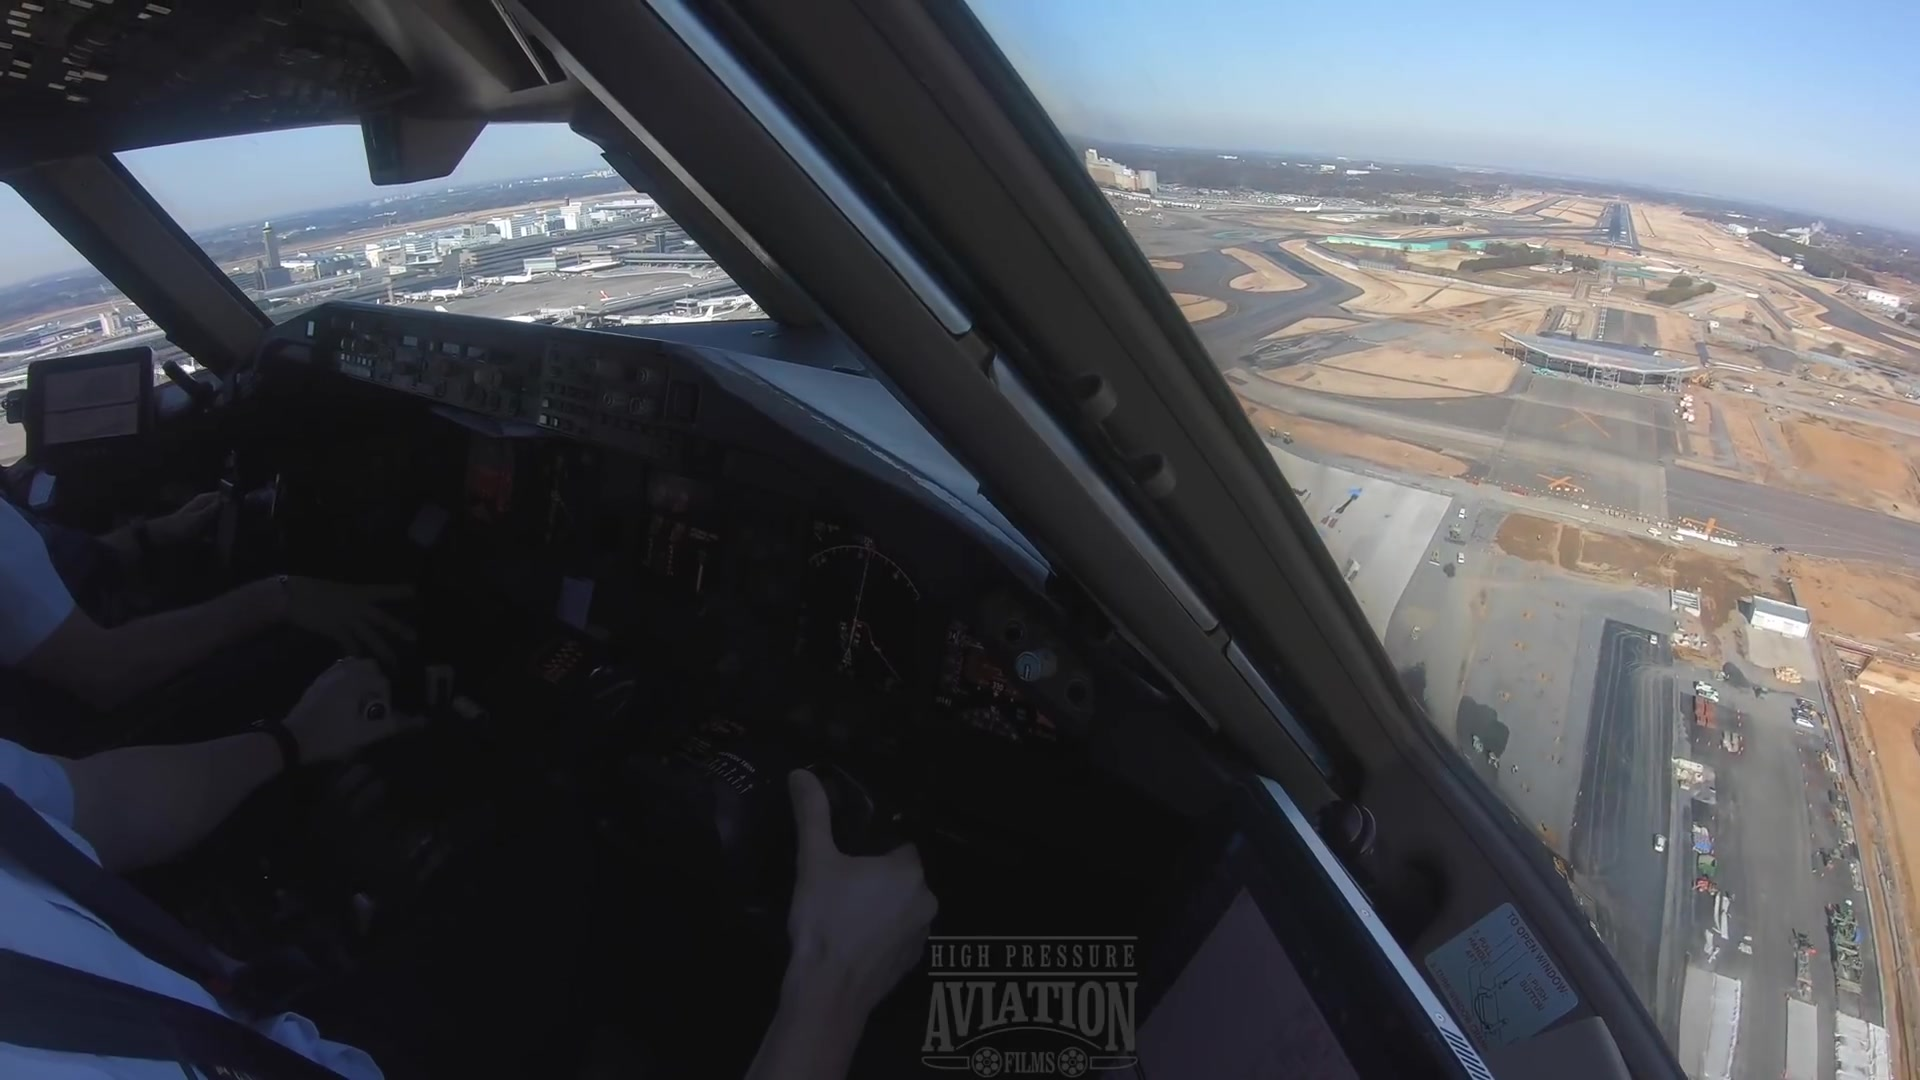runway: (1589, 202, 1636, 248)
